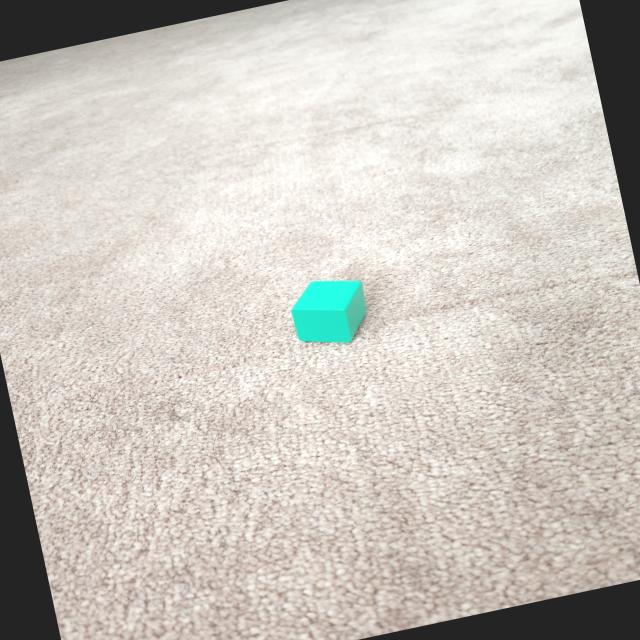green cube: (283, 269, 376, 354)
